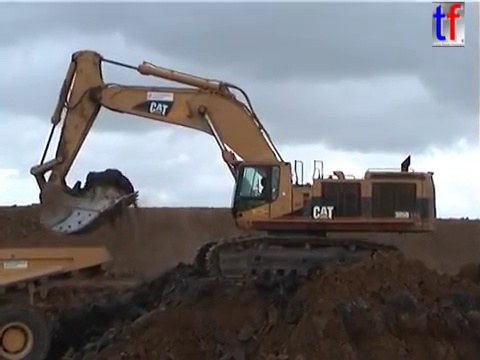excavator: (26, 47, 439, 287)
truck: (1, 242, 115, 360)
